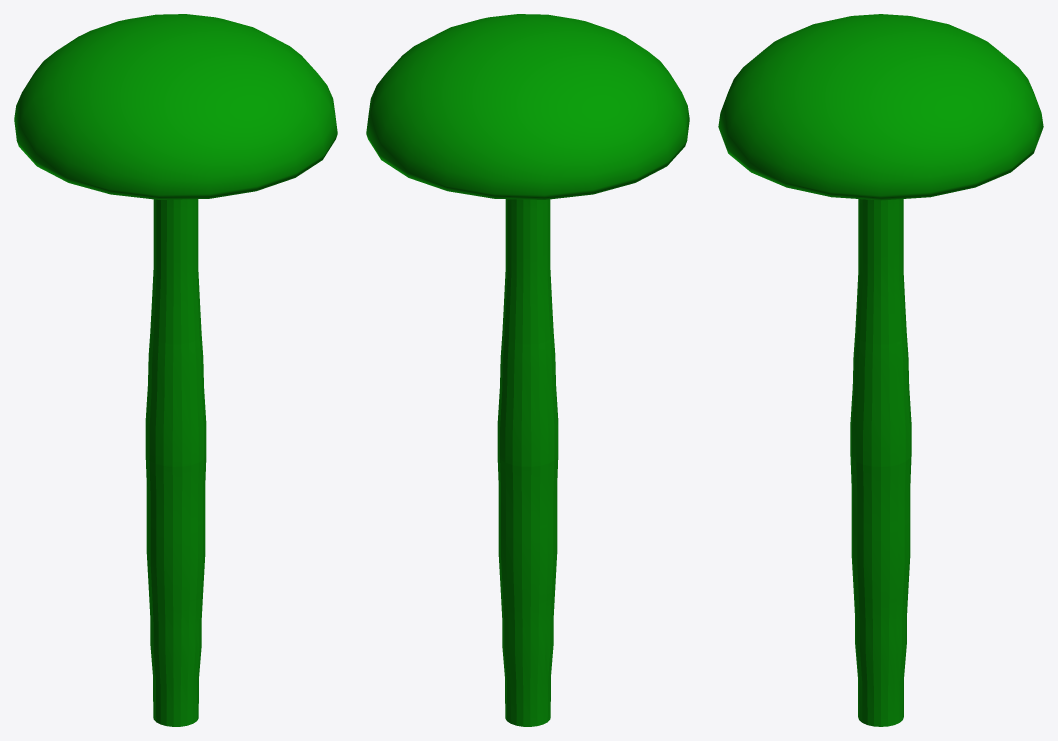
The model's file is mushroom.obj.
The picture shows the model from 3 angles, left to right: view 1: azimuth 30°, elevation 25°; view 2: azimuth 150°, elevation 25°; view 3: azimuth 270°, elevation 25°; orthographic projection.
Parts seen in each view (by area): view 1: Default; view 2: Default; view 3: Default.
Boxes of the visible parts, bbox=[...] form: Default: bbox=[14, 14, 337, 726]; Default: bbox=[366, 14, 689, 726]; Default: bbox=[718, 14, 1043, 726].
Bounding box in the file's own units: 16 × 36.92 × 16.
